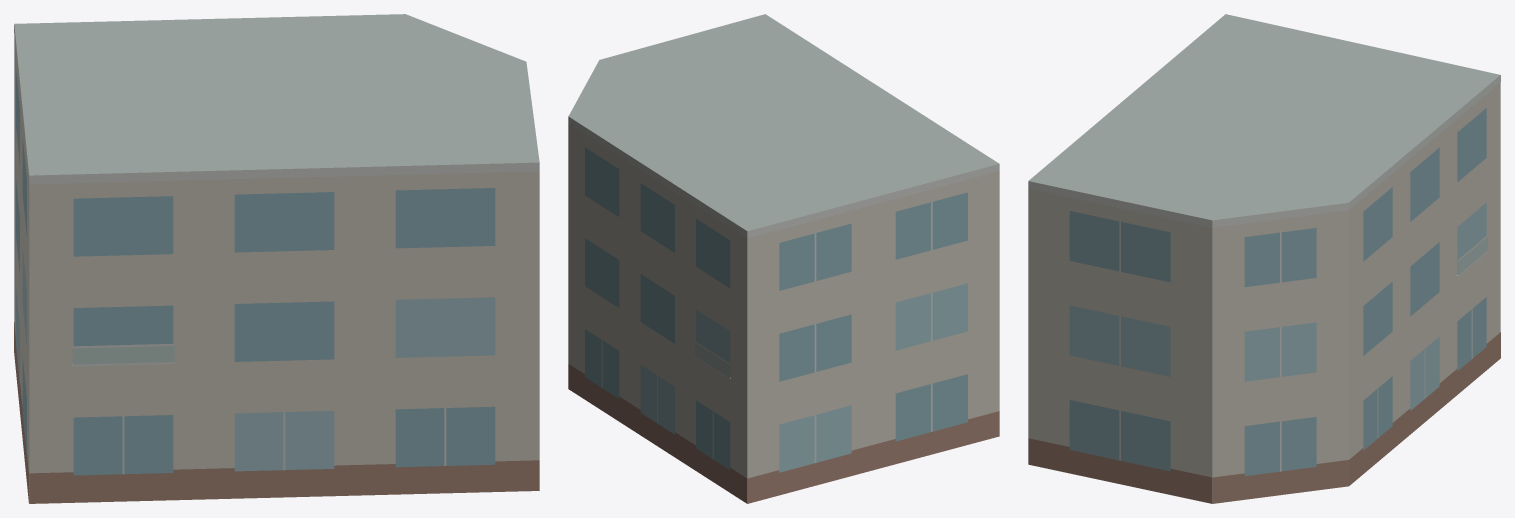
File: survey-upis-32798422.glb
3 views of the same model, side by side, from view 1: azimuth 30°, elevation 25°; view 2: azimuth 150°, elevation 25°; view 3: azimuth 270°, elevation 25° (orthographic). The views are drawn at different scales.
Parts seen in each view (by area): view 1: survey-upis-32798422.tmp; view 2: survey-upis-32798422.tmp; view 3: survey-upis-32798422.tmp.
Part boxes in pixels (bbox=[...]): survey-upis-32798422.tmp: bbox=[14, 14, 539, 503]; survey-upis-32798422.tmp: bbox=[568, 14, 999, 503]; survey-upis-32798422.tmp: bbox=[1028, 14, 1500, 503].
Bounding box in the file's own units: 14.29 × 9.15 × 13.83.
